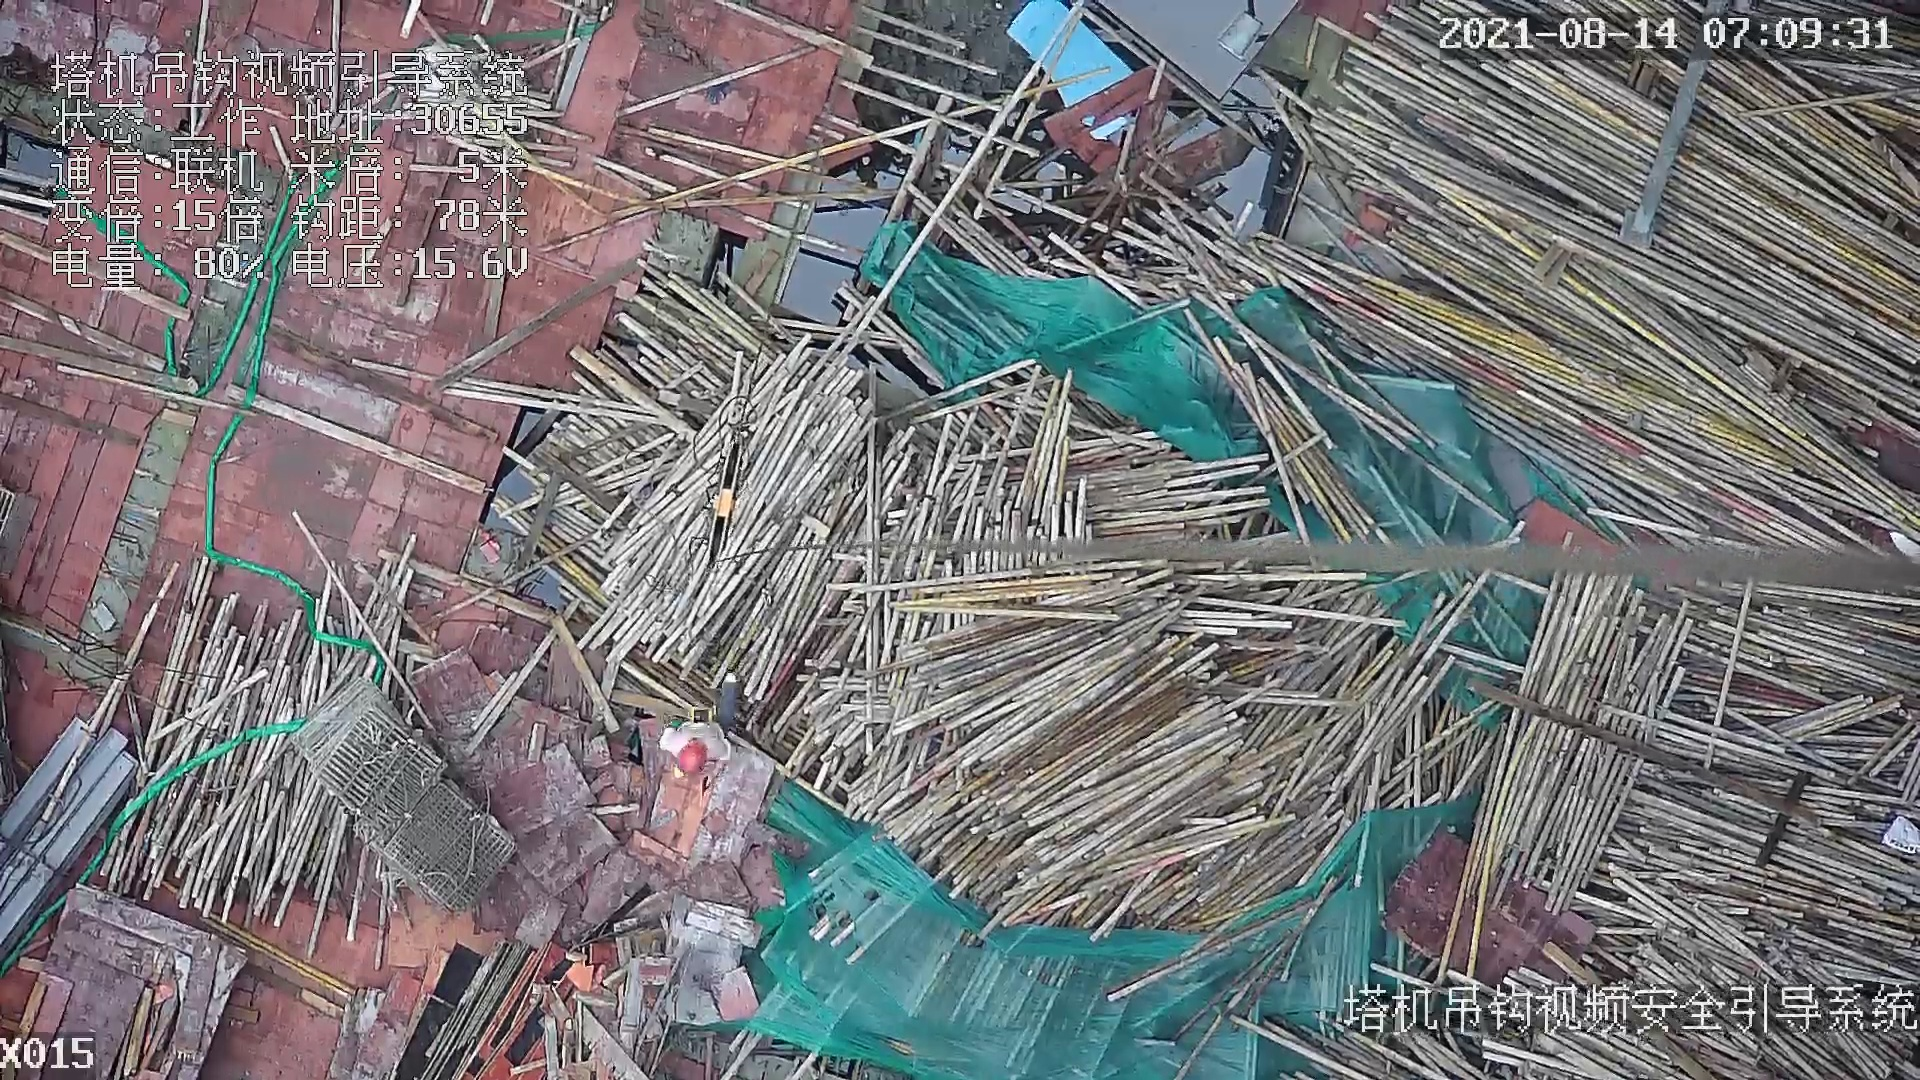helmet: (678, 743, 711, 776)
hook: (696, 432, 738, 571)
person: (659, 715, 735, 778)
